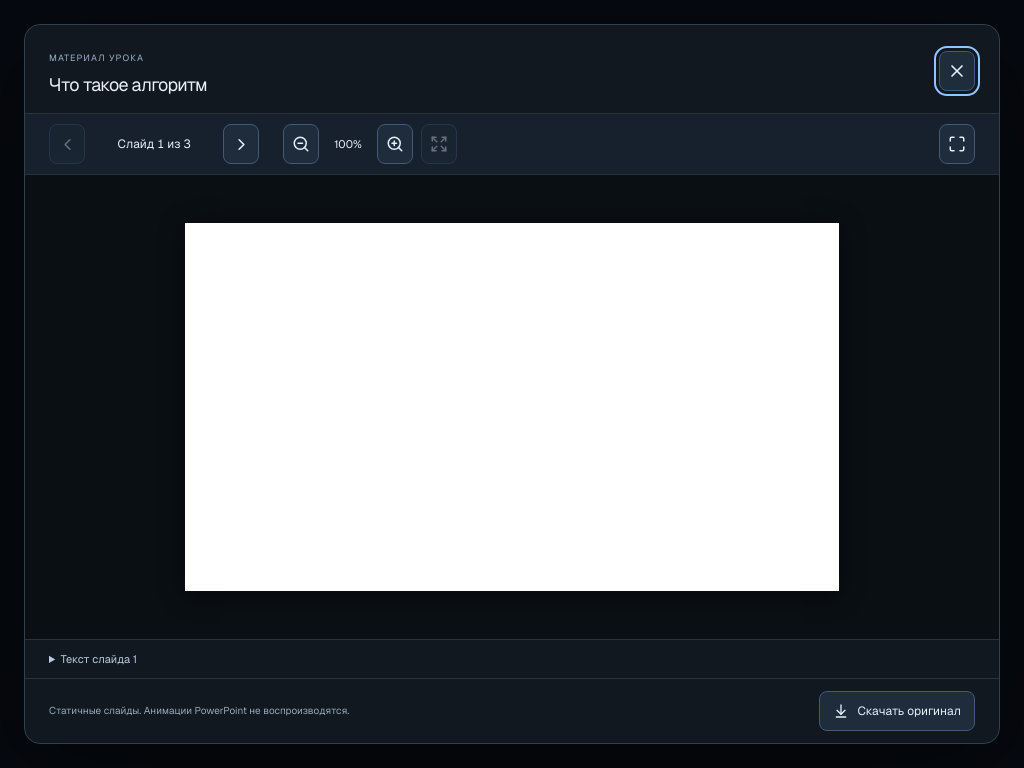
Test case: PresentationViewer › changes zoom and returns to fit the whole slide
This screenshot has width=1024, height=768.
Click the button named "Увеличить масштаб": [395, 144] box [377,124,413,164]
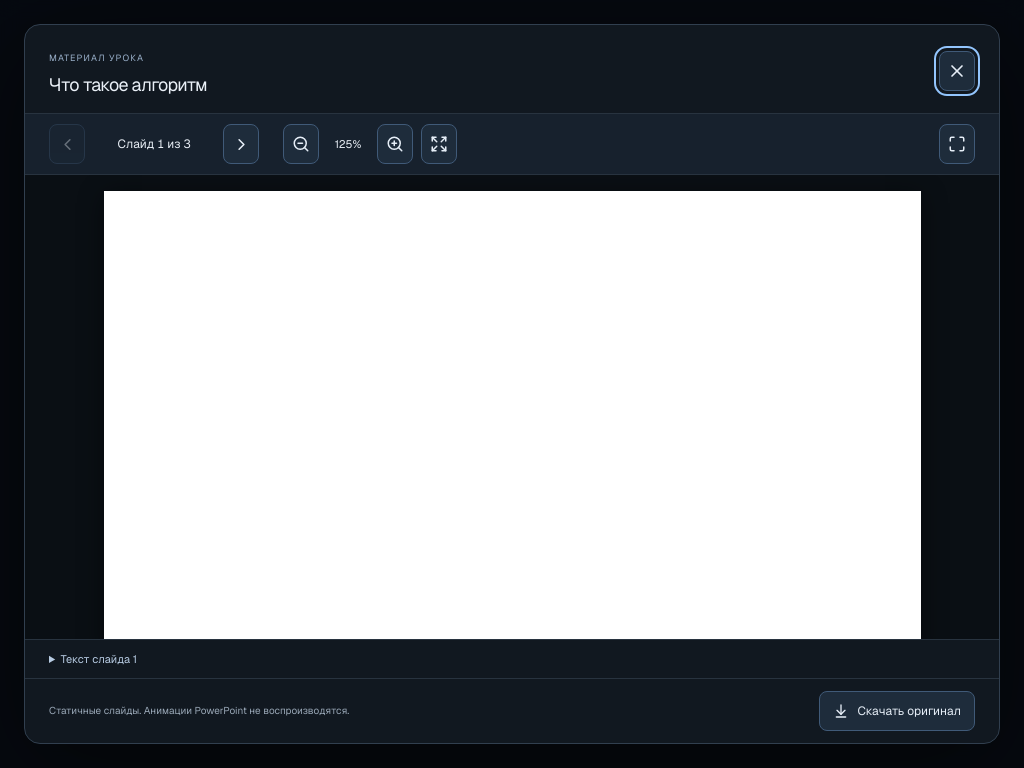
Expected: the text "125%" is shown, [335,137,361,151]
Click the button named "Вписать слайд": [439, 144] box [421,124,457,164]
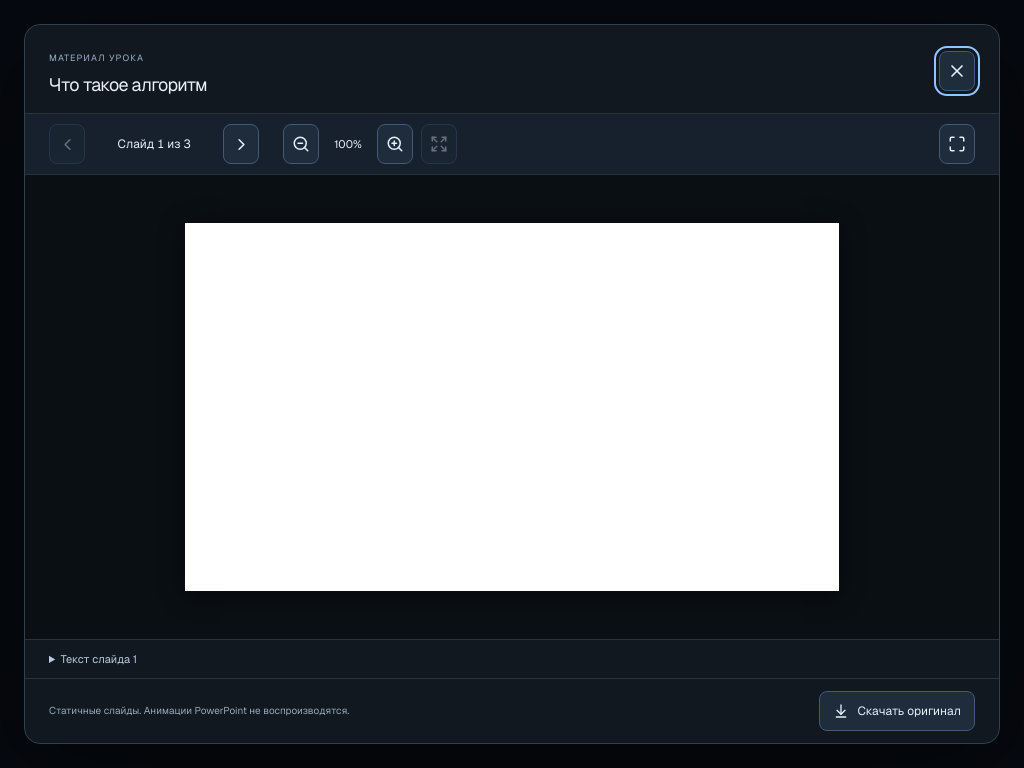
Expected: the text "100%" is shown, [334,137,362,151]
